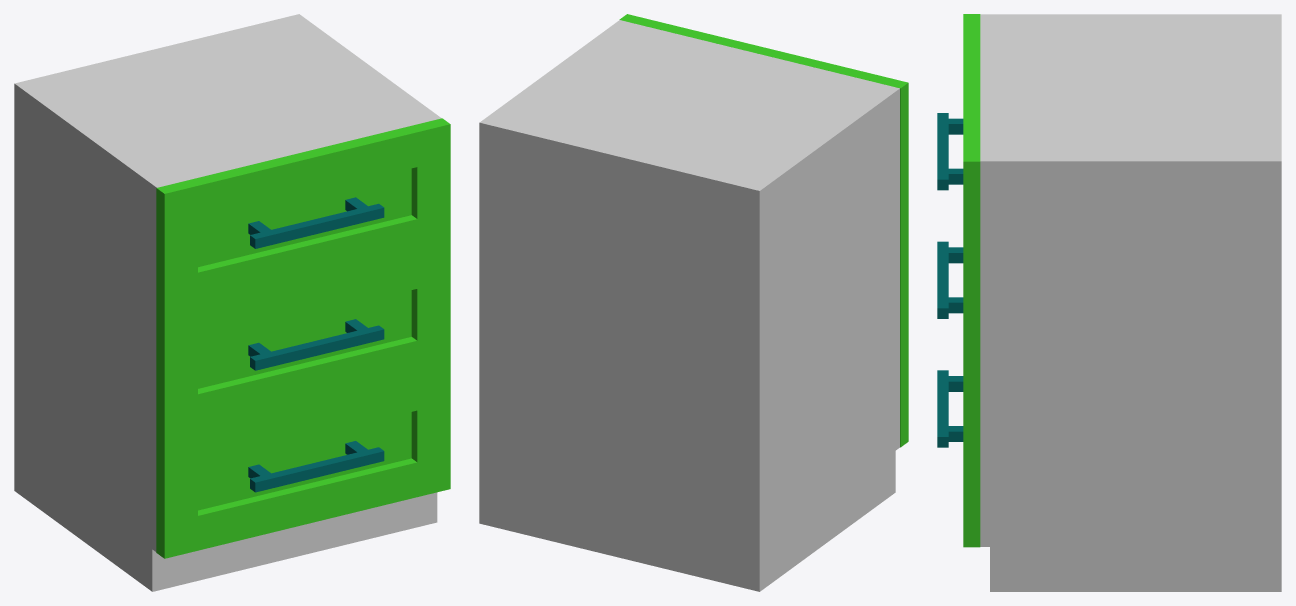
File: CustomMeshCollision_Kitchen_Furniture_CounterWithDrawers_Separate.fbx
3 renders of one model, left to right at view 1: azimuth 30°, elevation 25°; view 2: azimuth 150°, elevation 25°; view 3: azimuth 270°, elevation 25°, orthographic. The views are drawn at different scales.
Parts seen in each view (by area): view 1: CounterWithDrawers_MeshCollision, CounterWithDrawers_TopDrawer_MeshCollision, CounterWithDrawers_MiddleDrawer_MeshCollision, CounterWithDrawers_LowerDrawer_MeshCollision; view 2: CounterWithDrawers_MeshCollision, CounterWithDrawers_TopDrawer_MeshCollision, CounterWithDrawers_MiddleDrawer_MeshCollision, CounterWithDrawers_LowerDrawer_MeshCollision; view 3: CounterWithDrawers_MeshCollision, CounterWithDrawers_TopDrawer_MeshCollision, CounterWithDrawers_MiddleDrawer_MeshCollision, CounterWithDrawers_LowerDrawer_MeshCollision.
Boxes of the visible parts, x1,y1,x2,y2 form: CounterWithDrawers_MeshCollision: (14,14,441,591); CounterWithDrawers_TopDrawer_MeshCollision: (156,118,450,315); CounterWithDrawers_MiddleDrawer_MeshCollision: (156,246,450,436); CounterWithDrawers_LowerDrawer_MeshCollision: (156,367,450,558); CounterWithDrawers_MeshCollision: (479,20,899,591); CounterWithDrawers_TopDrawer_MeshCollision: (619,14,908,207); CounterWithDrawers_MiddleDrawer_MeshCollision: (900,202,908,327); CounterWithDrawers_LowerDrawer_MeshCollision: (900,322,908,447); CounterWithDrawers_MeshCollision: (980,14,1281,591); CounterWithDrawers_TopDrawer_MeshCollision: (937,14,980,289); CounterWithDrawers_MiddleDrawer_MeshCollision: (937,241,980,418); CounterWithDrawers_LowerDrawer_MeshCollision: (937,370,980,547).
Bounding box in the file's own units: 60.22 × 82 × 59.44.
